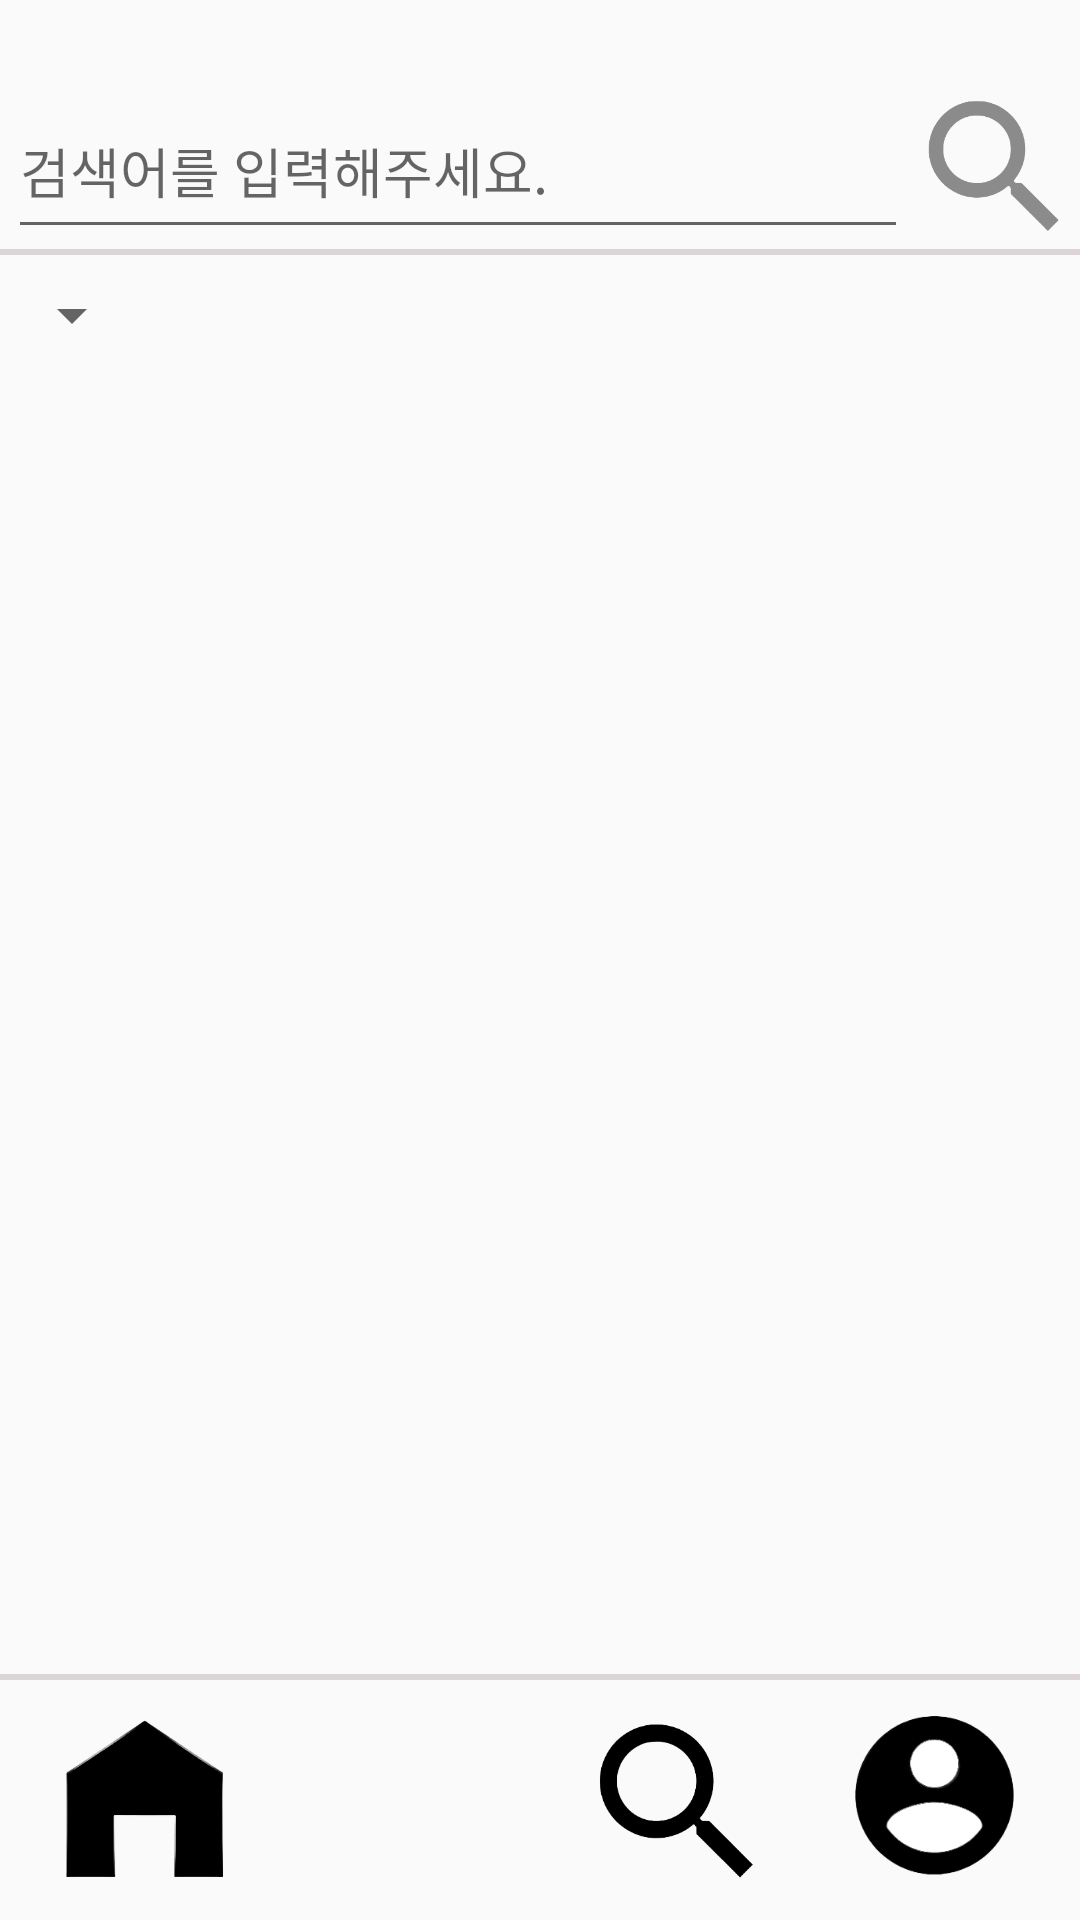

Screen size 1080x1920. Icon name, then its box in pixels as (x1, y1, x2, y2):
home: (66, 1721, 223, 1877)
search: (929, 101, 1058, 231), (600, 1724, 753, 1878)
내 정보: (855, 1716, 1014, 1875)
